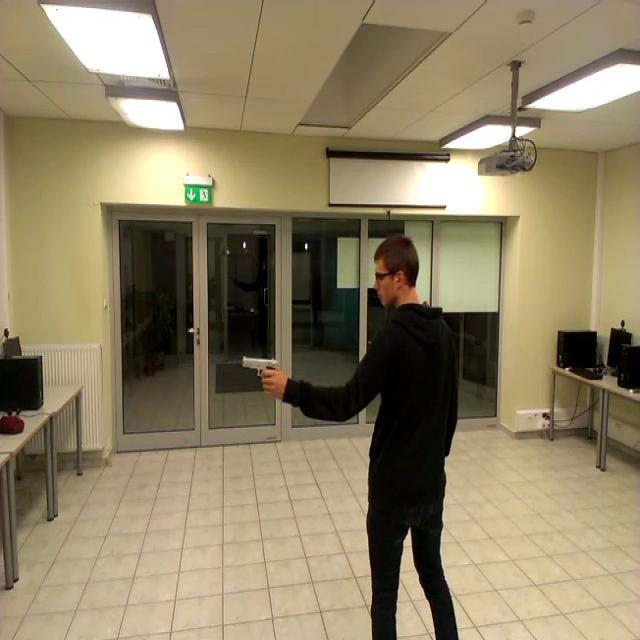Gun: (243, 354, 279, 388)
